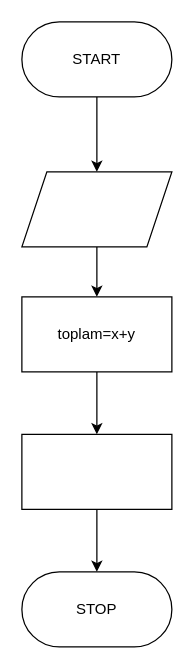
Some shapes in this 194 by 669 pixel diagram are drawn without their labels. Here are the shapes that lost their labels. From the top down, the centre of each, then its label:
the point at 96,209: INPUT iki sayi giriniz sayi1==x sayi2==y
the point at 96,471: print(toplam)
